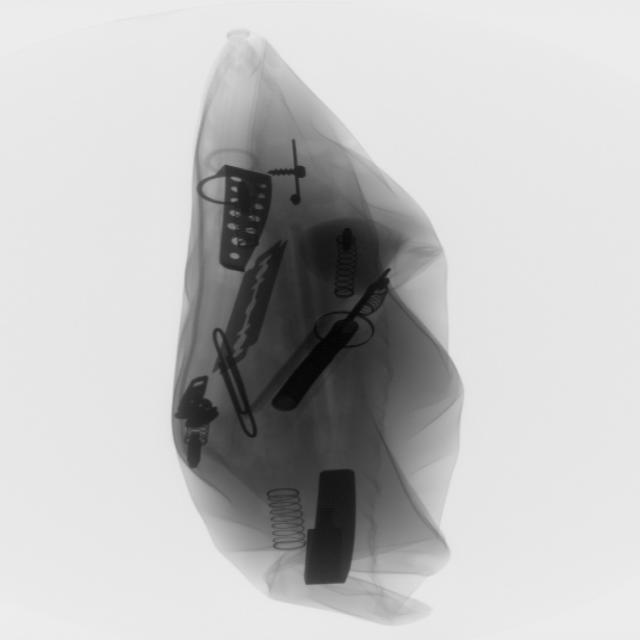BLADE: (219, 235, 288, 374)
